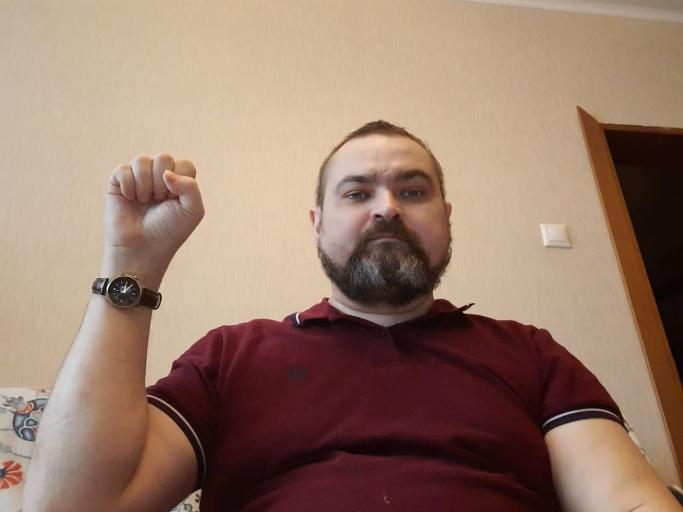fist: (98, 147, 207, 261)
